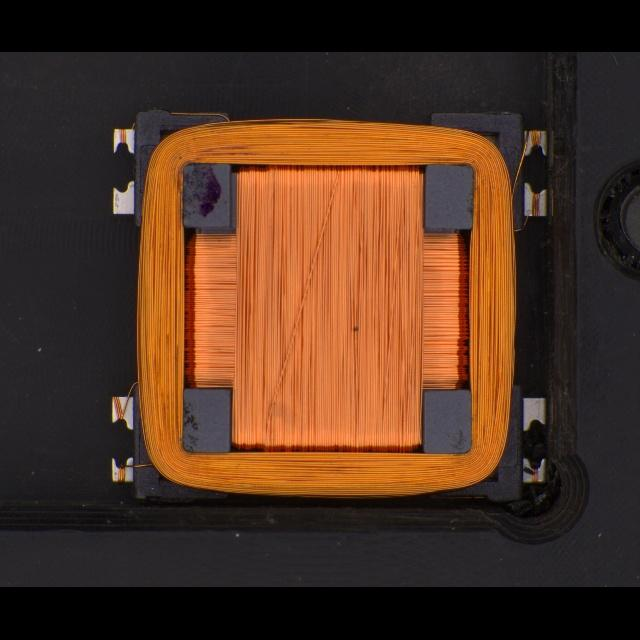Winding_Z: (126, 110, 524, 502)
